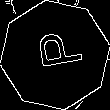P_W: (27, 32, 83, 78)
